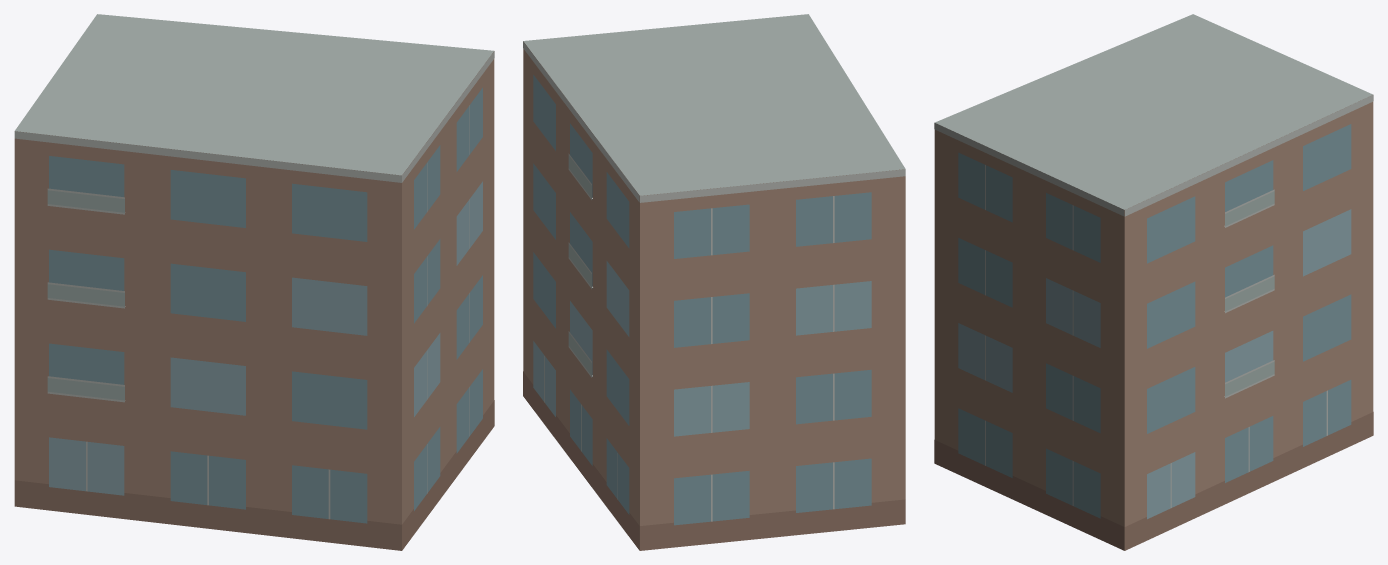
The model's file is survey-upis-32497822.glb.
3 renders of one model, left to right at view 1: azimuth 30°, elevation 25°; view 2: azimuth 150°, elevation 25°; view 3: azimuth 270°, elevation 25°, orthographic. The views are drawn at different scales.
Visible parts, largest first — view 1: survey-upis-32497822.tmp; view 2: survey-upis-32497822.tmp; view 3: survey-upis-32497822.tmp.
Part boxes in pixels (bbox=[...]): survey-upis-32497822.tmp: bbox=[14, 14, 494, 550]; survey-upis-32497822.tmp: bbox=[523, 14, 905, 550]; survey-upis-32497822.tmp: bbox=[934, 14, 1373, 550].
Bounding box in the file's own units: 15.05 × 12.2 × 14.24.
